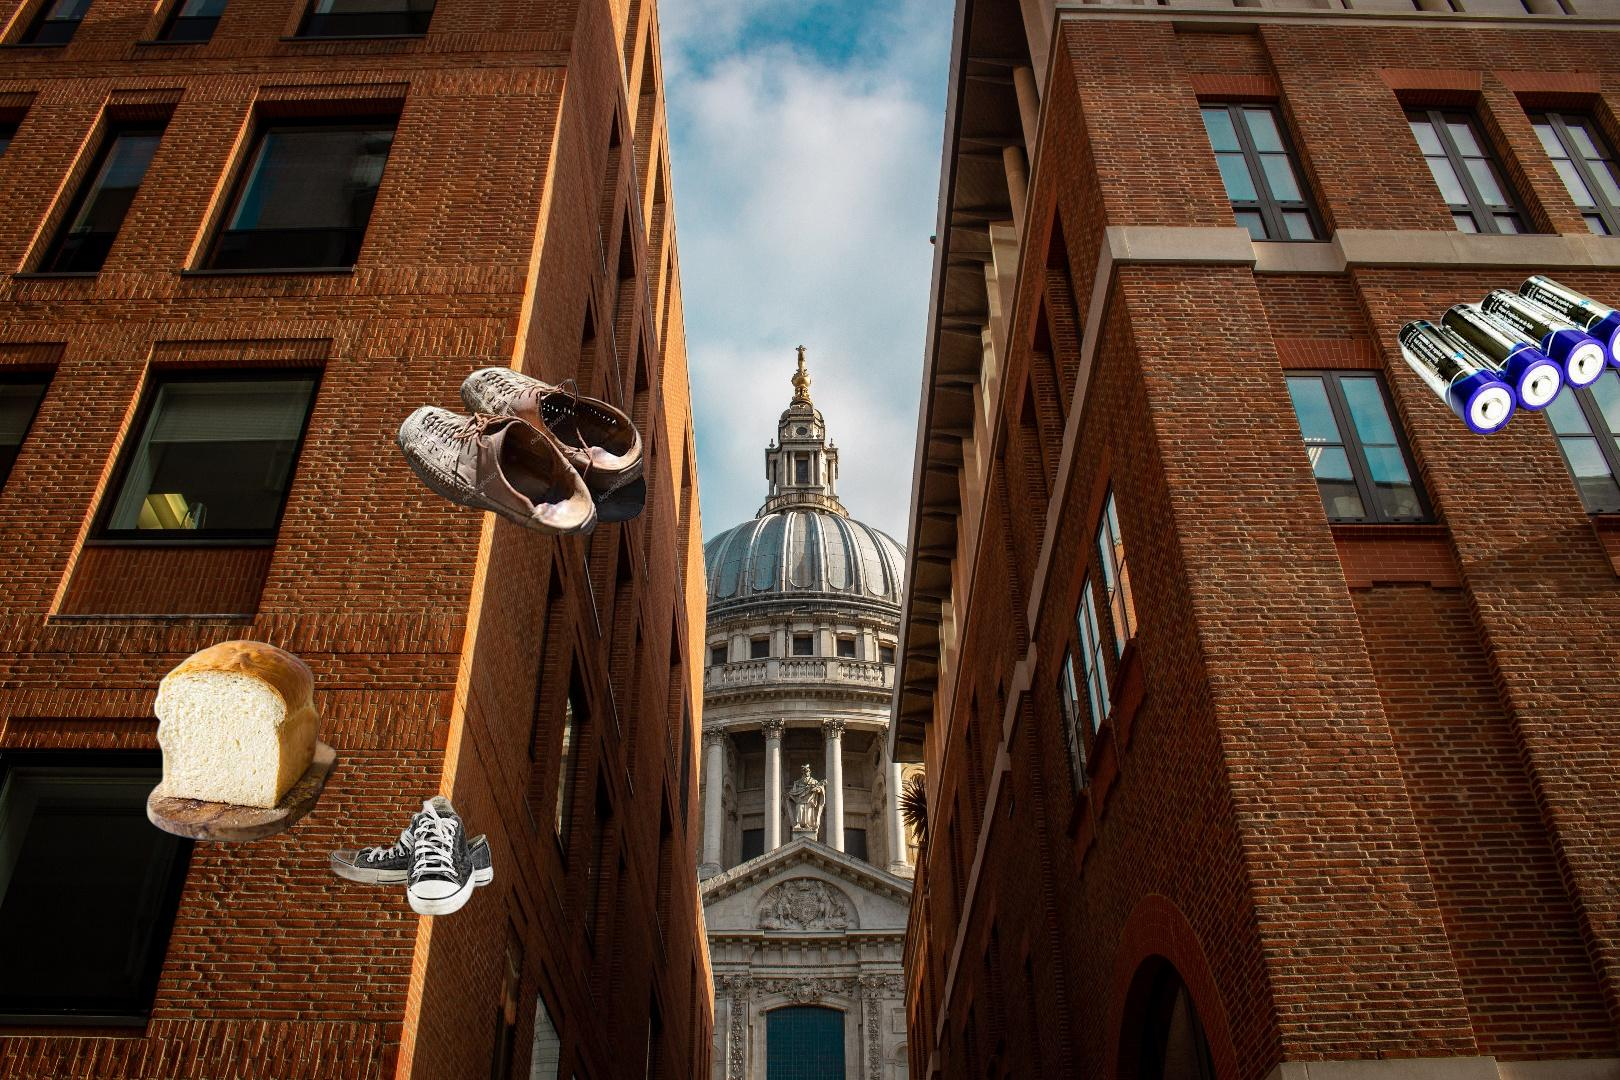battery: (1395, 272, 1620, 438)
biological: (143, 636, 344, 845)
shoes: (397, 364, 648, 535), (286, 792, 495, 938)
trashbox-cardboard: (1327, 822, 1620, 1080)
